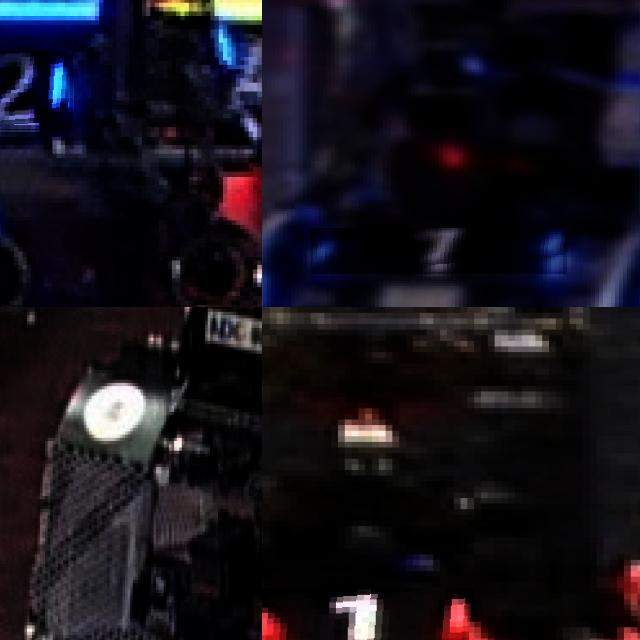B1: (311, 228, 567, 274)
B2: (0, 51, 73, 131)
R1: (262, 588, 474, 640)
